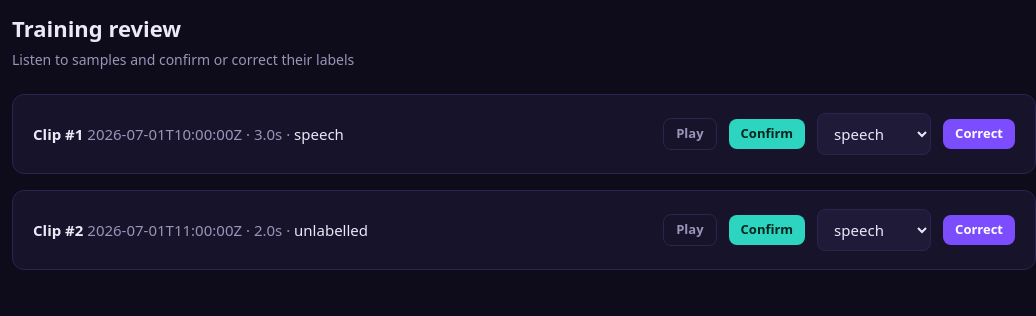
training review › confirm submits the label to POST /v1/labels and shows confirmation
Click the button "Confirm" in the row of "speech": x=767, y=134 [729, 119, 805, 149]
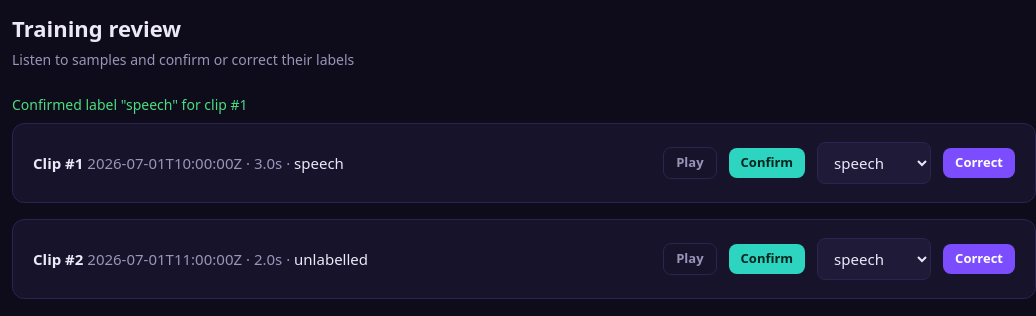
expect the message reads "Confirmed label \"speech\" for clip #1": met, box [12, 95, 248, 114]
